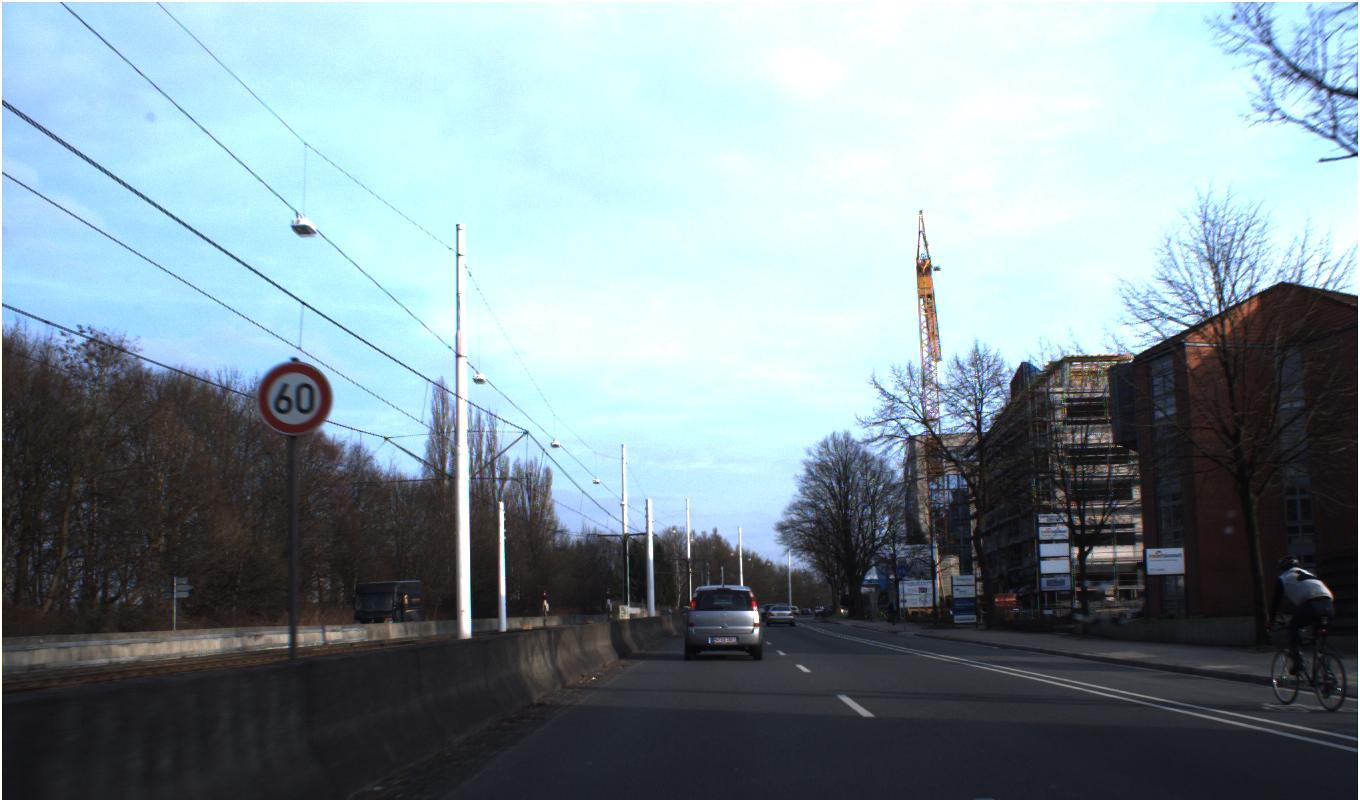prohibitory: (257, 361, 333, 435)
